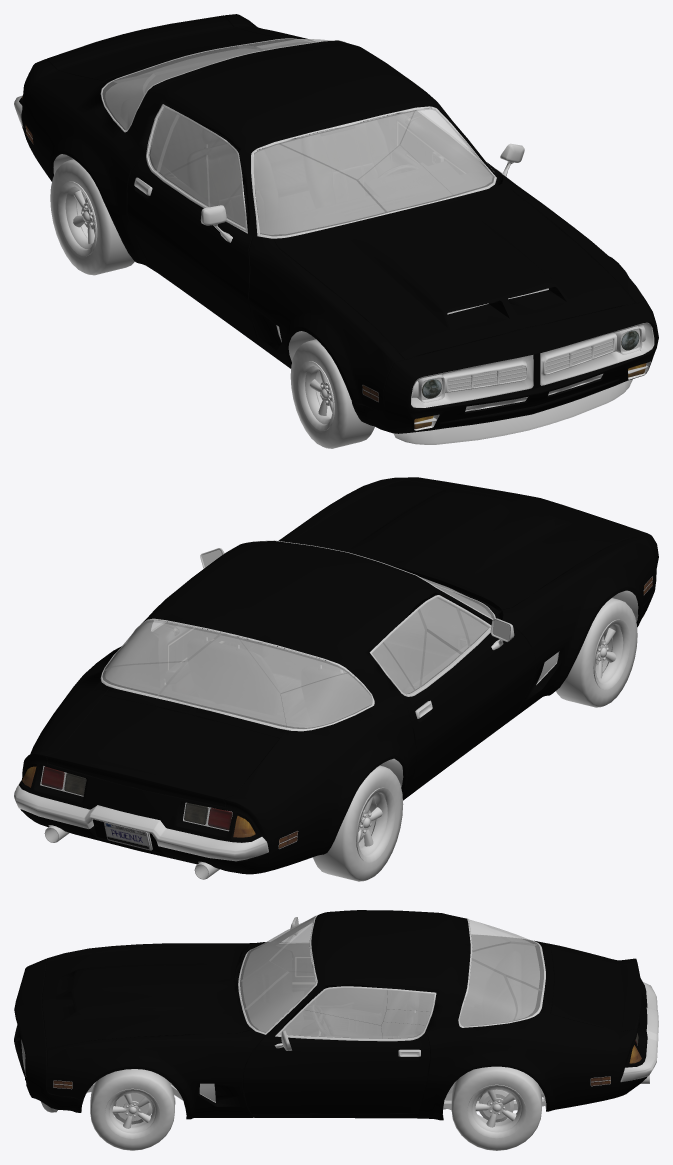
The model's file is Car_01_dodge.fbx.
The picture shows the model from 3 angles, top to bottom: view 1: azimuth 30°, elevation 25°; view 2: azimuth 150°, elevation 25°; view 3: azimuth 270°, elevation 25°; orthographic projection. The views are drawn at different scales.
Visible parts, largest first — view 1: Body, Hood, Glass_Front_and_Back, Door_R, Glass_Front_and_Back_cell.007, Trunkdoor, Doorglass_R, Wheel_BR, Wheel_FR, Glass_Front_and_Back_cell.006, Glass_Front_and_Back_cell.005, Door_L (+8 smaller); view 2: Body, Hood, Glass_Front_and_Back, Trunkdoor, Door_R, Glass_Front_and_Back_cell.000, Doorglass_R, Wheel_BR, Wheel_FR, Bumper_rear, Glass_Front_and_Back_cell.003, Glass_Front_and_Back_cell.002 (+7 smaller); view 3: Body, Hood, Door_L, Glass_Front_and_Back, Doorglass_L, Wheel_BL, Trunkdoor, Wheel_FL, Glass_Front_and_Back_cell.002, Door_R, Glass_Front_and_Back_cell.005, Doorglass_L_cell.002 (+11 smaller).
Boxes of the visible parts, left/top/right/bottom form: Body: left=19, top=14, right=658, bottom=444; Hood: left=274, top=184, right=634, bottom=359; Glass_Front_and_Back: left=102, top=39, right=494, bottom=235; Door_R: left=127, top=104, right=259, bottom=344; Glass_Front_and_Back_cell.007: left=254, top=143, right=387, bottom=235; Trunkdoor: left=47, top=15, right=278, bottom=80; Doorglass_R: left=148, top=107, right=245, bottom=228; Wheel_BR: left=50, top=159, right=134, bottom=275; Wheel_FR: left=290, top=339, right=374, bottom=448; Glass_Front_and_Back_cell.006: left=280, top=110, right=414, bottom=179; Glass_Front_and_Back_cell.005: left=400, top=108, right=494, bottom=195; Door_L: left=389, top=103, right=513, bottom=182; Body: left=19, top=477, right=658, bottom=879; Hood: left=290, top=480, right=634, bottom=611; Glass_Front_and_Back: left=102, top=577, right=493, bottom=728; Trunkdoor: left=46, top=695, right=278, bottom=806; Door_R: left=369, top=595, right=535, bottom=794; Glass_Front_and_Back_cell.000: left=157, top=633, right=285, bottom=726; Doorglass_R: left=372, top=597, right=490, bottom=694; Wheel_BR: left=313, top=765, right=403, bottom=881; Wheel_FR: left=556, top=598, right=637, bottom=707; Bumper_rear: left=14, top=784, right=268, bottom=861; Glass_Front_and_Back_cell.003: left=281, top=673, right=372, bottom=728; Glass_Front_and_Back_cell.002: left=105, top=620, right=219, bottom=669; Body: left=14, top=910, right=647, bottom=1124; Hood: left=42, top=944, right=249, bottom=1048; Door_L: left=243, top=986, right=436, bottom=1113; Glass_Front_and_Back: left=240, top=917, right=543, bottom=1032; Doorglass_L: left=279, top=988, right=433, bottom=1038; Wheel_BL: left=451, top=1066, right=541, bottom=1150; Trunkdoor: left=550, top=948, right=641, bottom=1031; Wheel_FL: left=90, top=1069, right=174, bottom=1150; Glass_Front_and_Back_cell.002: left=459, top=958, right=517, bottom=1026; Door_R: left=265, top=942, right=420, bottom=1019; Glass_Front_and_Back_cell.005: left=244, top=971, right=315, bottom=1032; Doorglass_L_cell.002: left=305, top=988, right=387, bottom=1024.
Bounding box in the file's own units: 2.13 × 1.33 × 4.89.
